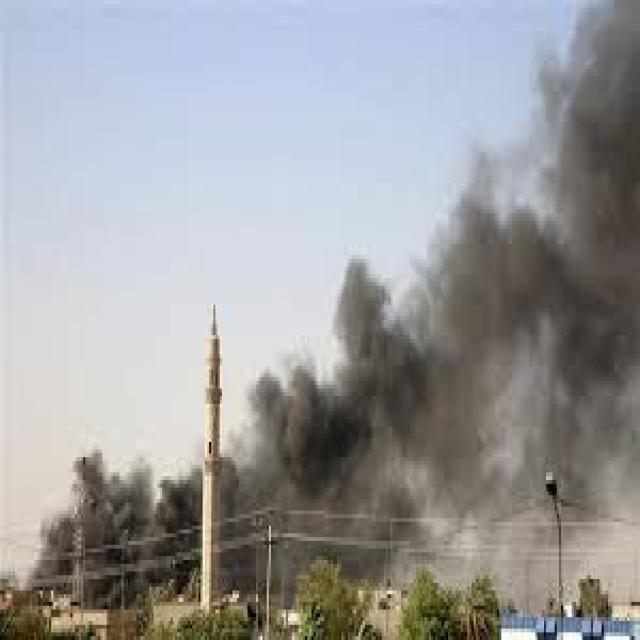Smoke: (525, 0, 640, 510), (407, 168, 541, 519), (217, 362, 363, 588), (23, 436, 198, 600), (326, 268, 420, 538)
